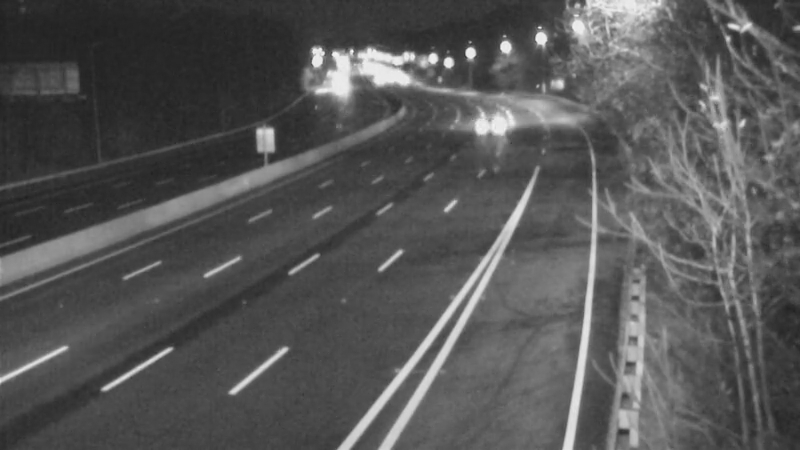vehicle: (458, 93, 508, 143)
